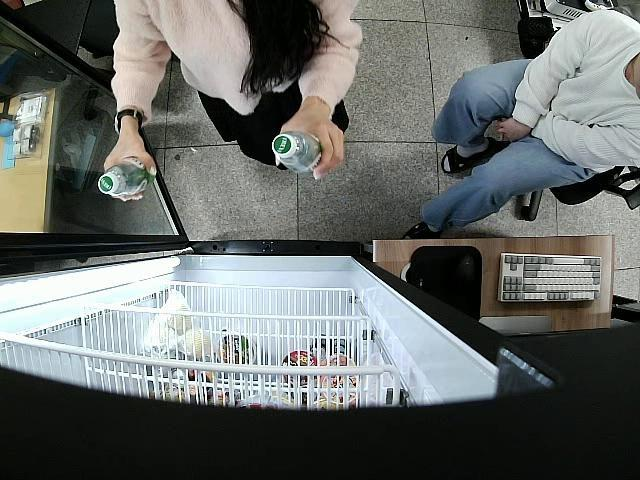18_trevi: (98, 156, 156, 197), (272, 130, 322, 177)
